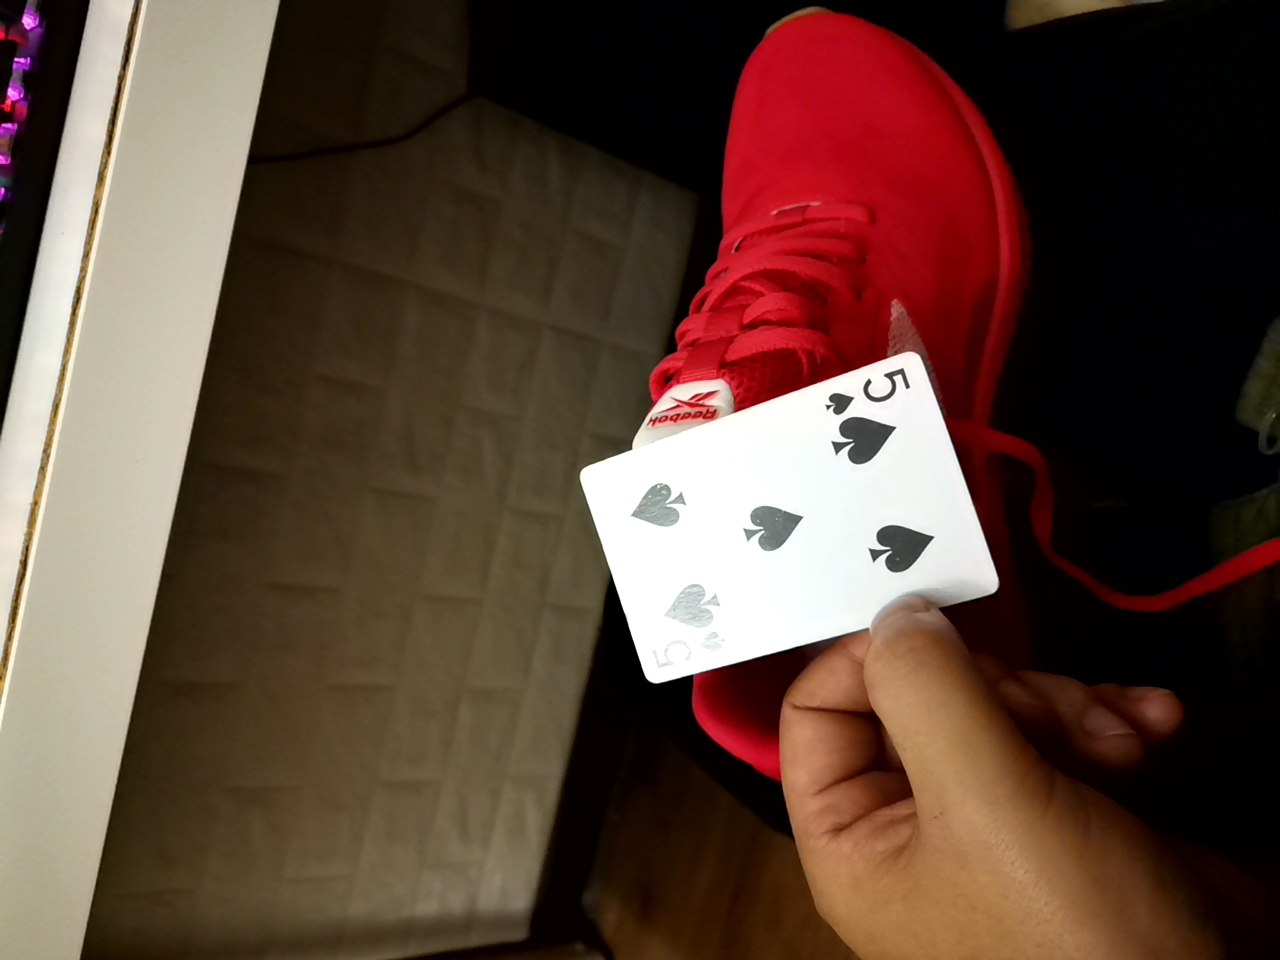ht 5: (573, 354, 1014, 685)
